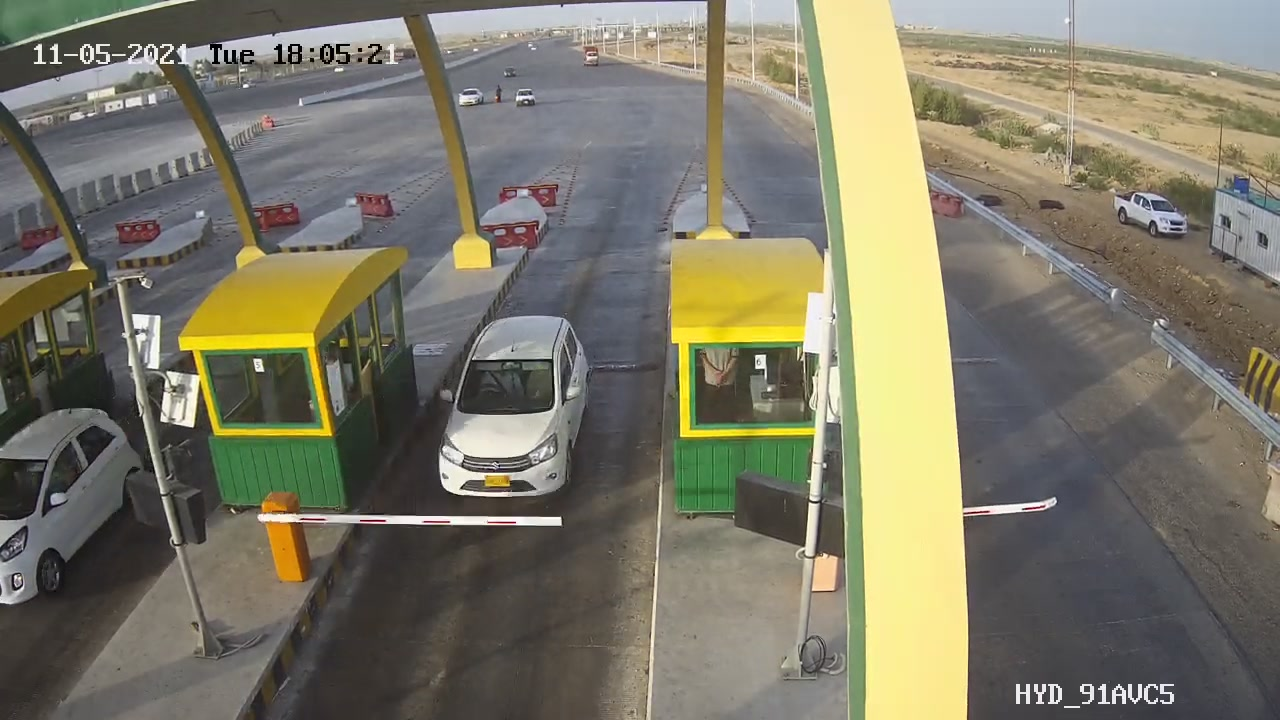F1: (417, 298, 600, 517)
